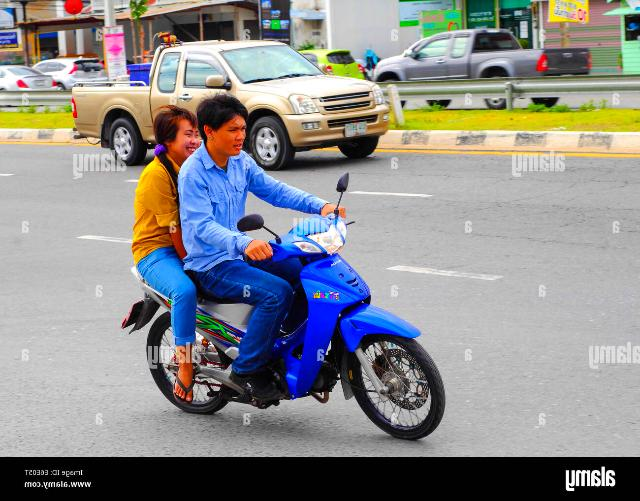motor: (119, 171, 450, 446)
non-helm: (196, 94, 253, 161), (151, 107, 202, 160)
